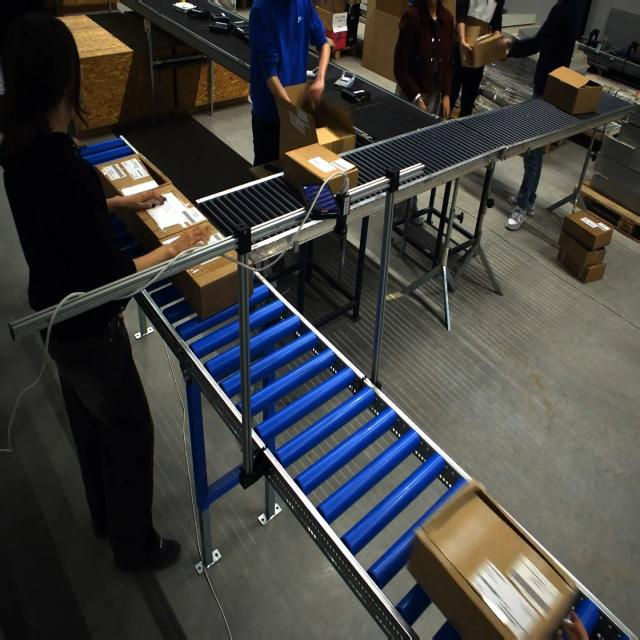box: (409, 481, 579, 639), (108, 178, 214, 256), (171, 248, 249, 319), (92, 153, 170, 206), (286, 142, 348, 197), (541, 66, 600, 115), (461, 27, 508, 69), (321, 121, 356, 154)
product: (340, 87, 369, 104), (332, 70, 355, 91), (231, 22, 248, 43), (209, 21, 231, 34), (187, 7, 210, 19), (210, 12, 230, 24), (307, 66, 319, 79)
